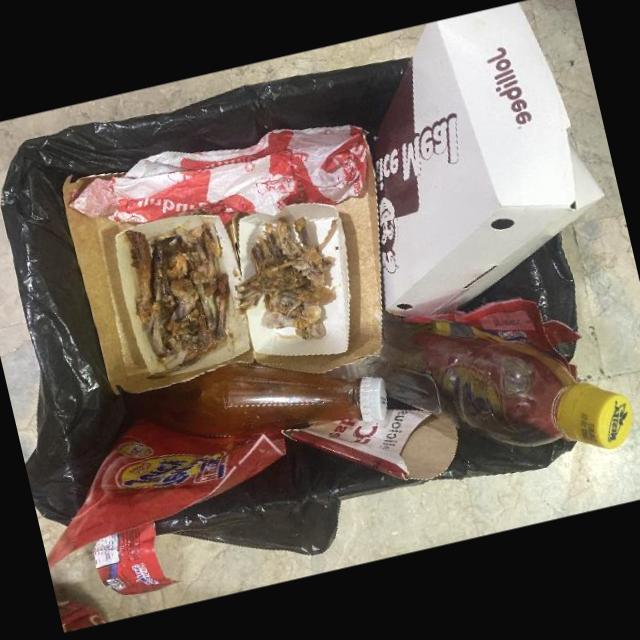bao_bi_thuc_pham: (47, 421, 285, 595)
carton: (370, 3, 604, 319)
chai_nhua_pet: (320, 318, 632, 447)
chai_thuy_tinh: (136, 359, 388, 437)
giay: (69, 126, 366, 227)
thuc_an_thua: (129, 222, 230, 379), (236, 216, 335, 340)
